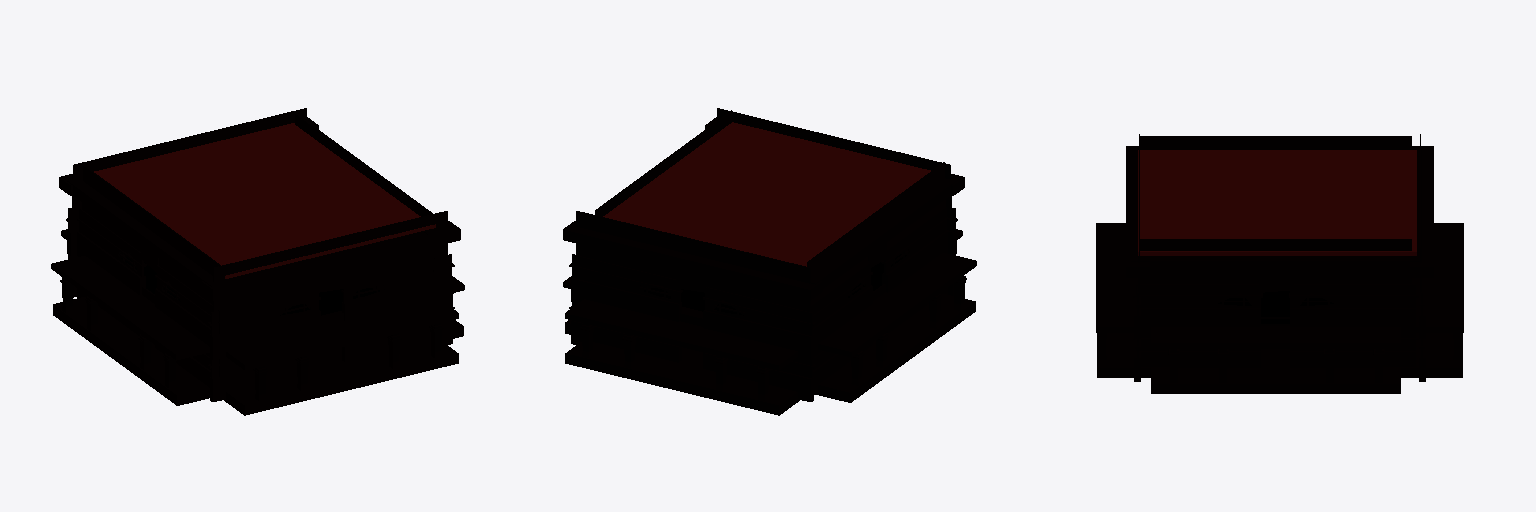
The model's file is BarBuilding.obj.
3 renders of one model, left to right at view 1: azimuth 30°, elevation 25°; view 2: azimuth 150°, elevation 25°; view 3: azimuth 270°, elevation 25°, orthographic.
Parts seen in each view (by area): view 1: Cube.001, Cube.003, Cube.004, Cube; view 2: Cube.001, Cube.004, Cube.003, Cube; view 3: Cube.004, Cube.003, Cube.001, Cube.
Part boxes in pixels (bbox=[...]): Cube.001: bbox=[59, 108, 460, 415]; Cube.003: bbox=[94, 123, 435, 278]; Cube.004: bbox=[51, 113, 464, 405]; Cube: bbox=[121, 257, 379, 315]; Cube.001: bbox=[563, 108, 964, 415]; Cube.004: bbox=[563, 110, 976, 402]; Cube.003: bbox=[603, 122, 930, 266]; Cube: bbox=[644, 254, 906, 315]; Cube.004: bbox=[1131, 136, 1419, 393]; Cube.003: bbox=[1138, 150, 1416, 255]; Cube.001: bbox=[1096, 134, 1463, 381]; Cube: bbox=[1218, 291, 1333, 323].
Size of the model in its own units: 29.69 by 13.41 by 32.81.